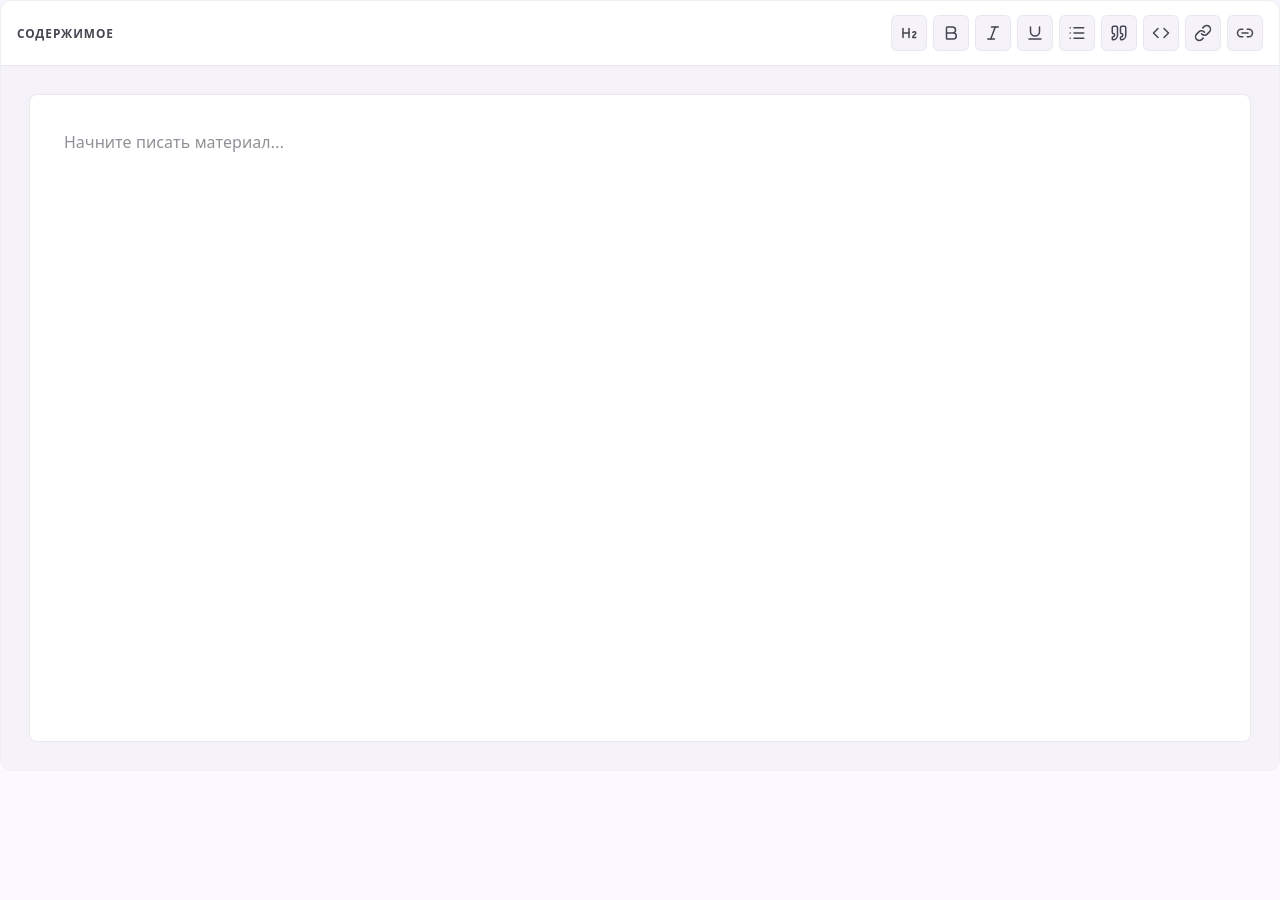
Test: MarkdownEditor › reveals lesson link selectors step by step
Click the button titled "Вставить ссылку на урок": point(1245, 33) x1=1227 y1=15 x2=1263 y2=51
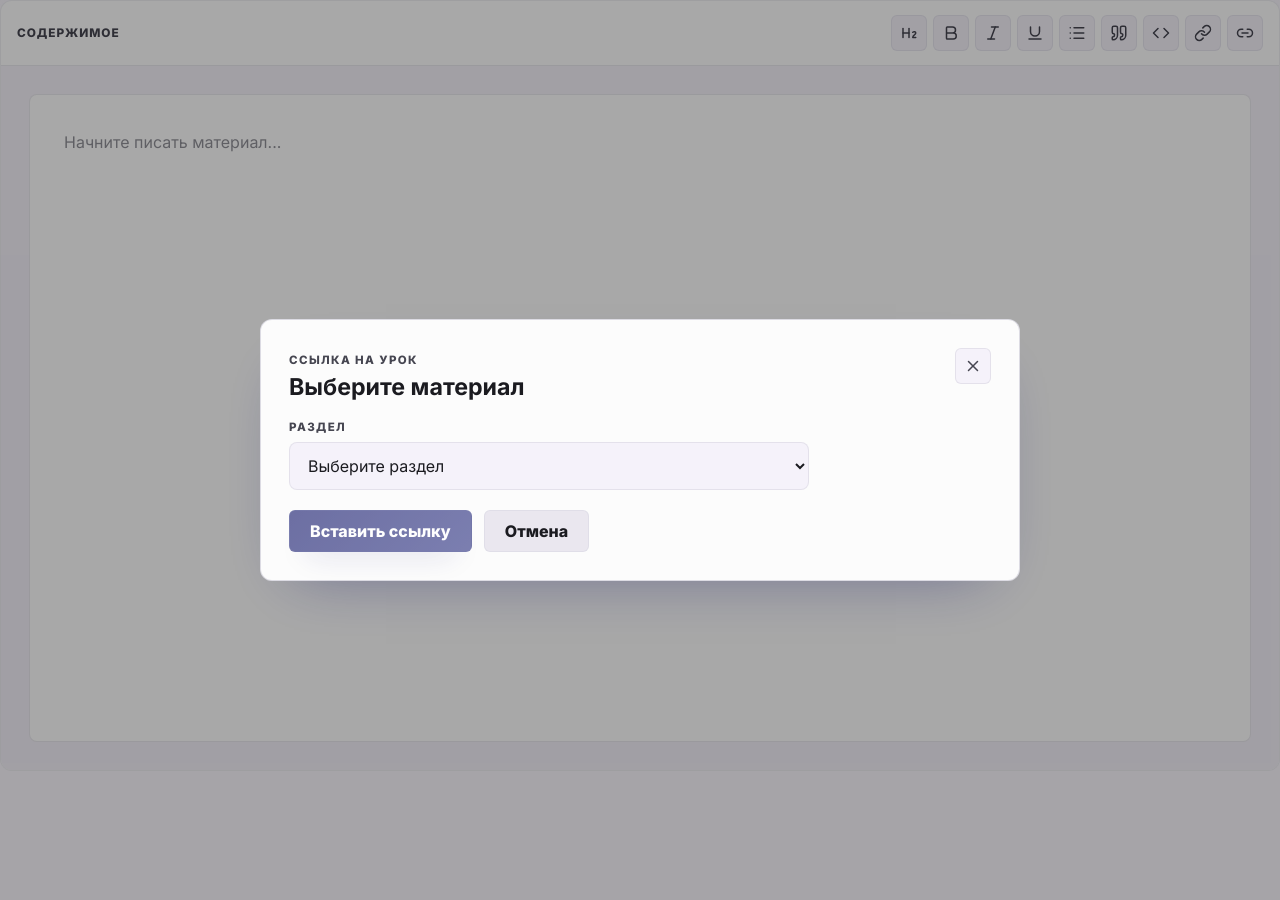
Check: the text "Подраздел" is not shown
Check: the number of labels is 1, box x1=289 y1=420 x2=809 y2=490
Check: the text "Раздел" is shown, box x1=289 y1=420 x2=346 y2=434
Select "Раздел" in the dropdown labelled "Раздел": point(549, 466) x1=289 y1=442 x2=809 y2=490
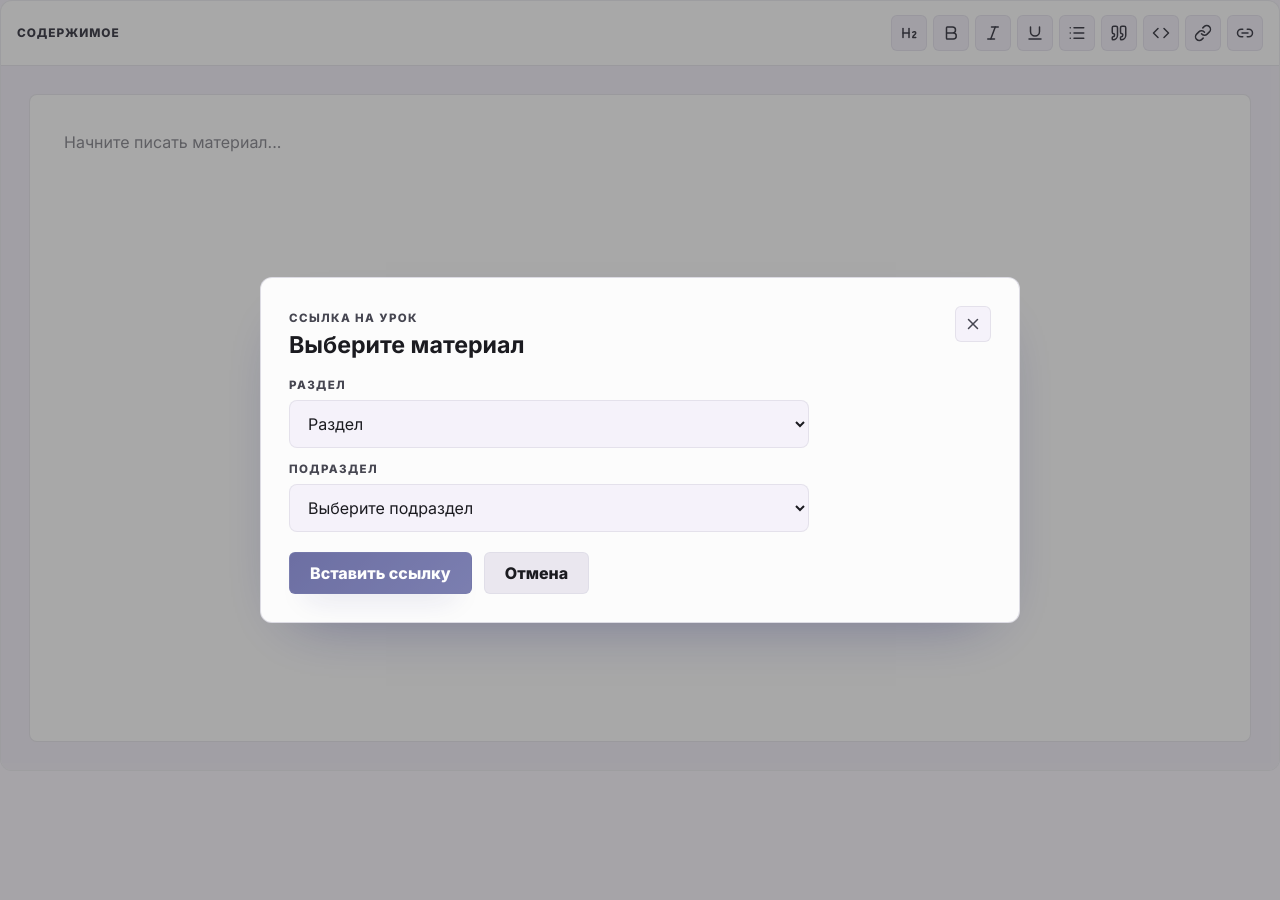
Check: the text "Урок" is not shown
Check: the number of labels is 2, box x1=289 y1=378 x2=809 y2=448; x1=289 y1=462 x2=809 y2=532
Check: the text "Подраздел" is shown, box x1=289 y1=462 x2=378 y2=476
Select "Подраздел" in the dropdown labelled "Подраздел": point(549, 508) x1=289 y1=484 x2=809 y2=532
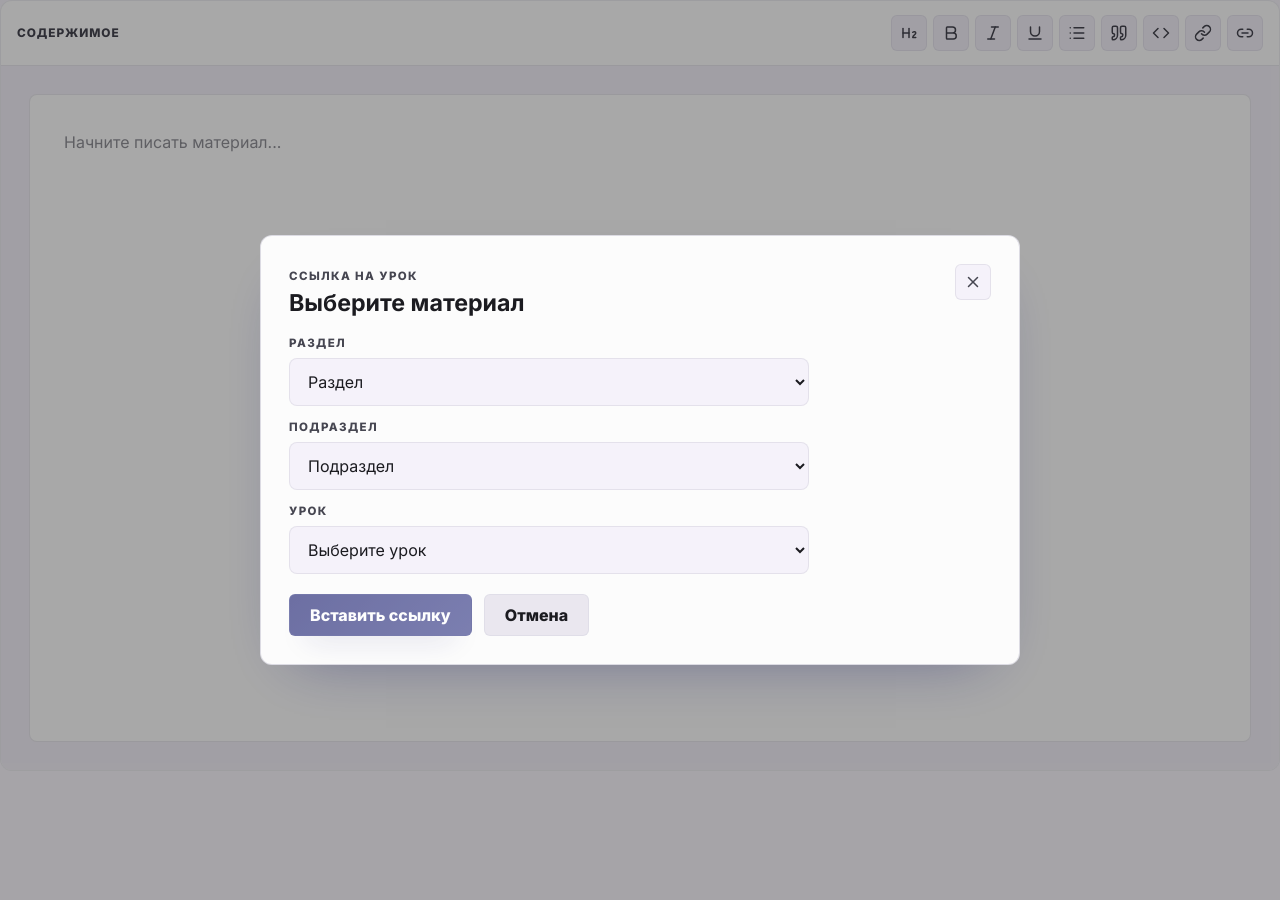
Check: the text "урок" is shown, box x1=289 y1=269 x2=418 y2=283
Check: the number of labels is 3, box x1=289 y1=336 x2=809 y2=406; x1=289 y1=420 x2=809 y2=490; x1=289 y1=504 x2=809 y2=574
